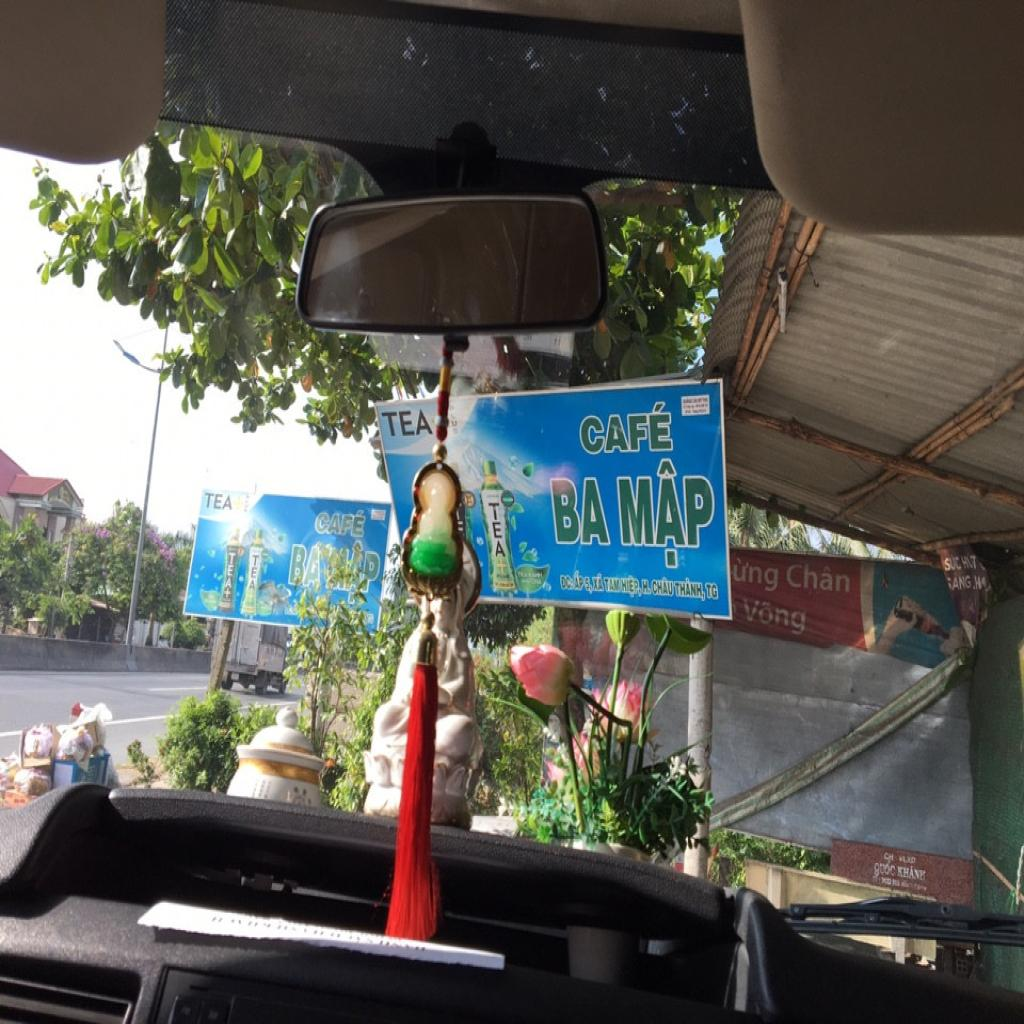text: (615, 457, 718, 571), (577, 398, 675, 458), (548, 474, 614, 548), (742, 592, 808, 641), (785, 561, 852, 597), (733, 556, 782, 596), (312, 506, 367, 541), (286, 541, 321, 594), (380, 406, 436, 439), (487, 501, 511, 577), (360, 550, 382, 596), (674, 577, 707, 602), (222, 553, 238, 601), (202, 491, 234, 514), (246, 554, 262, 594), (897, 864, 928, 883), (621, 574, 642, 600), (652, 577, 675, 598), (950, 572, 973, 592), (943, 553, 964, 574), (873, 862, 897, 877), (604, 577, 622, 595), (705, 582, 720, 602), (559, 574, 575, 591), (898, 853, 917, 867), (574, 568, 585, 592), (592, 572, 605, 592), (642, 578, 652, 597), (585, 576, 593, 596), (450, 418, 460, 428)
